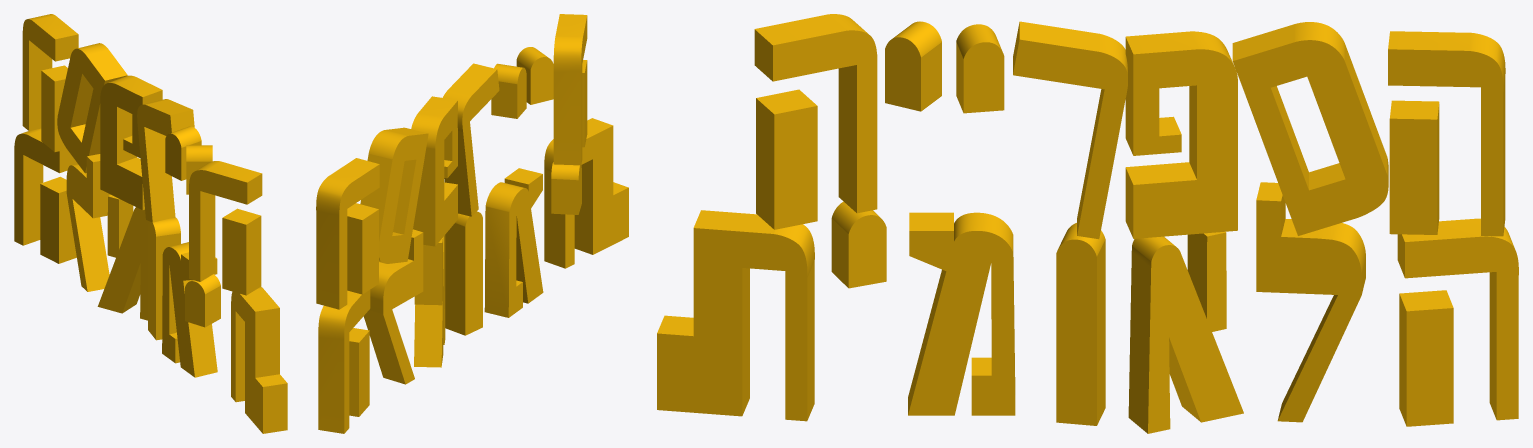
File: 10_title.gltf
3 views of the same model, side by side, from view 1: azimuth 30°, elevation 25°; view 2: azimuth 150°, elevation 25°; view 3: azimuth 270°, elevation 25° (orthographic). The views are drawn at different scales.
Visible parts, largest first — view 1: Cap 1 (×13), כתום, כתום.6, כתום.5, כתום.10, כתום.7, כתום.4, כתום.9, נפח.1 (×3), כתום.1, כתום.8, כתום.2 (+1 smaller); view 2: Cap 1 (×13), כתום.10, כתום.6, כתום.5, כתום.1, כתום, נפח.1 (×3), כתום.3, כתום.8, כתום.9, כתום.4, כתום.2 (+1 smaller); view 3: Cap 2 (×14), כתום.6, כתום.3, כתום.8, כתום, נפח.1 (×3), כתום.5, כתום.9, כתום.10, כתום.1, כתום.7, כתום.4 (+1 smaller).
Boxes of the visible parts, x1,y1,x2,y2 form: Cap 1 (×13): (14, 19, 262, 433); כתום: (235, 287, 287, 433); כתום.6: (196, 161, 262, 295); כתום.5: (22, 128, 77, 263); כתום.10: (29, 14, 78, 151); כתום.7: (143, 99, 194, 222); כתום.4: (72, 154, 110, 291); כתום.9: (70, 43, 127, 173); נפח.1 (×3): (171, 126, 220, 327); כתום.1: (169, 242, 217, 377); כתום.8: (108, 75, 162, 209); כתום.2: (153, 217, 180, 340); Cap 1 (×13): (339, 16, 628, 433); כתום.10: (316, 158, 379, 309); כתום.6: (553, 14, 587, 165); כתום.5: (318, 290, 369, 433); כתום.1: (484, 168, 542, 317); כתום: (544, 118, 628, 268); נפח.1 (×3): (491, 47, 579, 214); כתום.3: (414, 236, 444, 367); כתום.8: (411, 96, 457, 246); כתום.9: (360, 127, 428, 263); כתום.4: (363, 229, 422, 384); כתום.2: (445, 211, 476, 335); Cap 2 (×14): (657, 30, 1518, 433); כתום.6: (754, 14, 867, 229); כתום.3: (1128, 231, 1225, 433); כתום.8: (1125, 31, 1233, 237); כתום: (657, 210, 814, 420); נפח.1 (×3): (831, 21, 1002, 287); כתום.5: (1397, 218, 1514, 425); כתום.9: (1232, 22, 1388, 190); כתום.10: (1388, 31, 1505, 235); כתום.1: (908, 212, 1015, 414); כתום.7: (1013, 21, 1127, 235); כתום.4: (1256, 182, 1365, 419).
Bounding box in the file's own units: 594 × 1973 × 4017.
